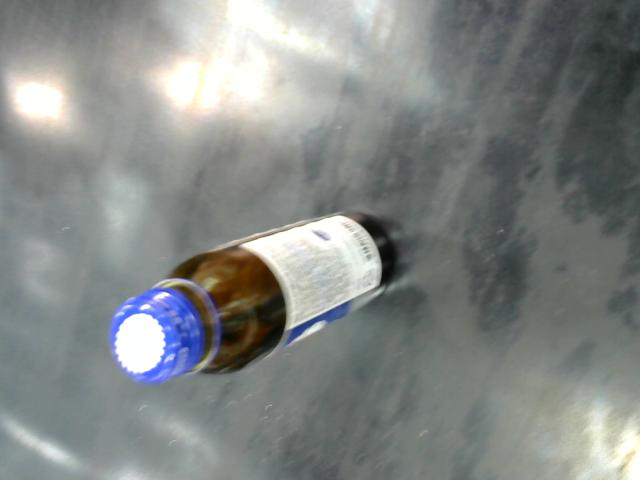glass: (108, 202, 404, 385)
